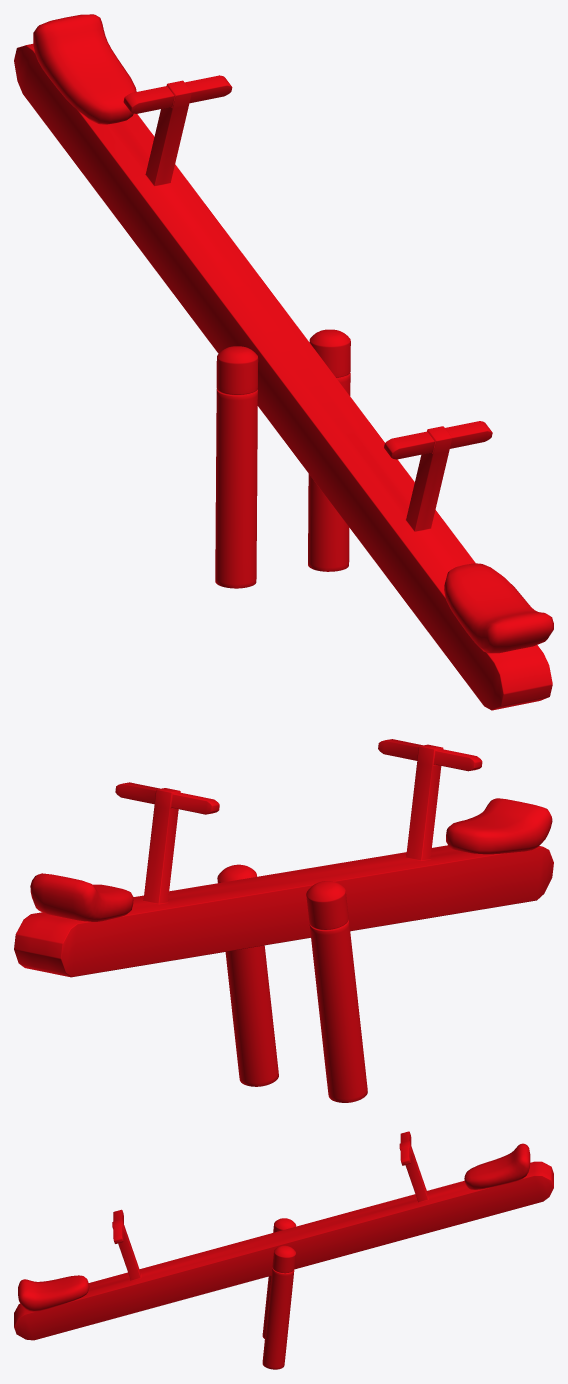
Rendered from seesaw.glb.
The picture shows the model from 3 angles, top to bottom: view 1: azimuth 30°, elevation 25°; view 2: azimuth 150°, elevation 25°; view 3: azimuth 270°, elevation 25°; orthographic projection. The views are drawn at different scales.
Parts seen in each view (by area): view 1: Whip, Paal; view 2: Whip, Paal; view 3: Whip, Paal.
Boxes of the visible parts, left/top/right/bottom form: Whip: left=14, top=14, right=553, bottom=710; Paal: left=215, top=329, right=350, bottom=588; Whip: left=14, top=739, right=553, bottom=977; Paal: left=217, top=864, right=367, bottom=1102; Whip: left=14, top=1131, right=553, bottom=1340; Paal: left=262, top=1218, right=296, bottom=1369.
Bounding box in the file's own units: 0.0453 × 0.123 × 0.2798.
